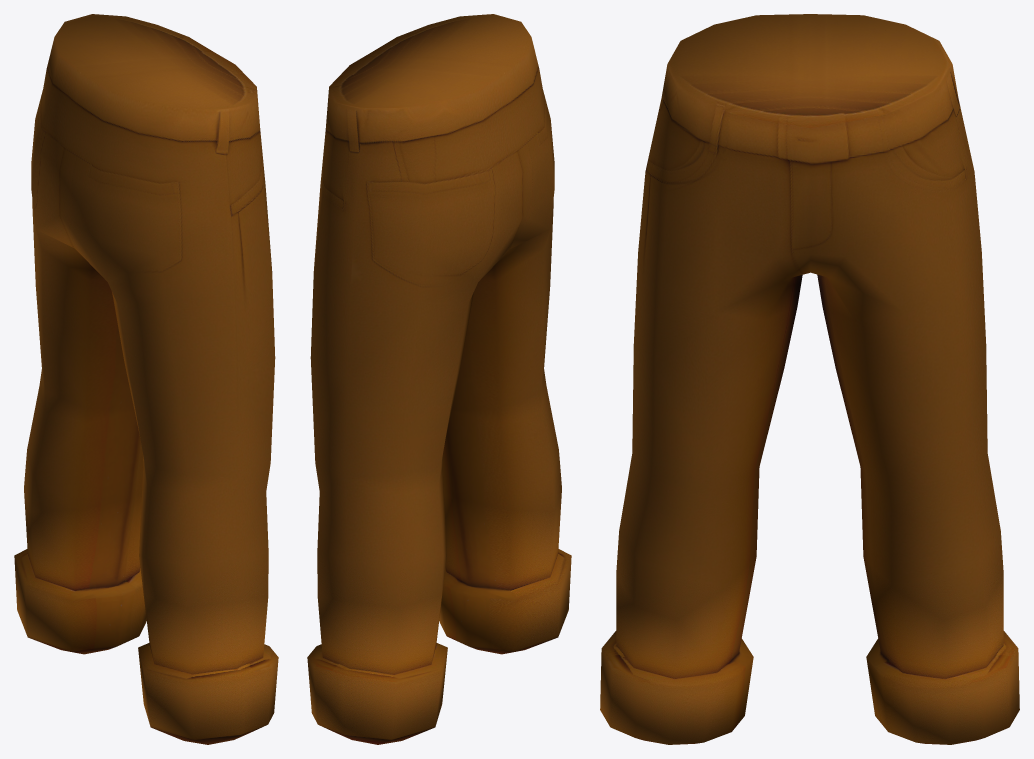
Rendered from pants.glb.
3 views of the same model, side by side, from view 1: azimuth 30°, elevation 25°; view 2: azimuth 150°, elevation 25°; view 3: azimuth 270°, elevation 25° (orthographic). The views are drawn at different scales.
Visible parts, largest first — view 1: tripo_node_5596f39c-392e-4b25-b847-b6f5522a0ddb; view 2: tripo_node_5596f39c-392e-4b25-b847-b6f5522a0ddb; view 3: tripo_node_5596f39c-392e-4b25-b847-b6f5522a0ddb.
Part boxes in pixels (x1,y1,x2,y2): tripo_node_5596f39c-392e-4b25-b847-b6f5522a0ddb: (14,14,278,744); tripo_node_5596f39c-392e-4b25-b847-b6f5522a0ddb: (307,14,571,744); tripo_node_5596f39c-392e-4b25-b847-b6f5522a0ddb: (600,14,1019,744).
Bounding box in the file's own units: 0.1475 × 0.499 × 0.2803.
1 material, 1 textured.
